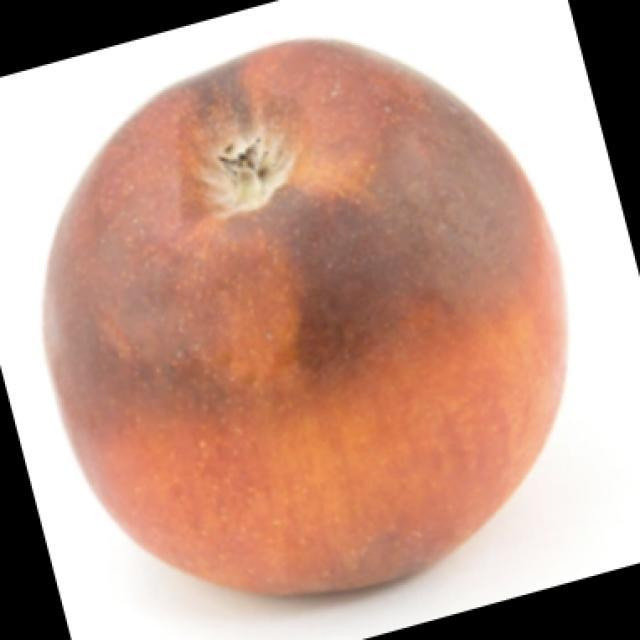Rotten: (57, 47, 553, 593)
